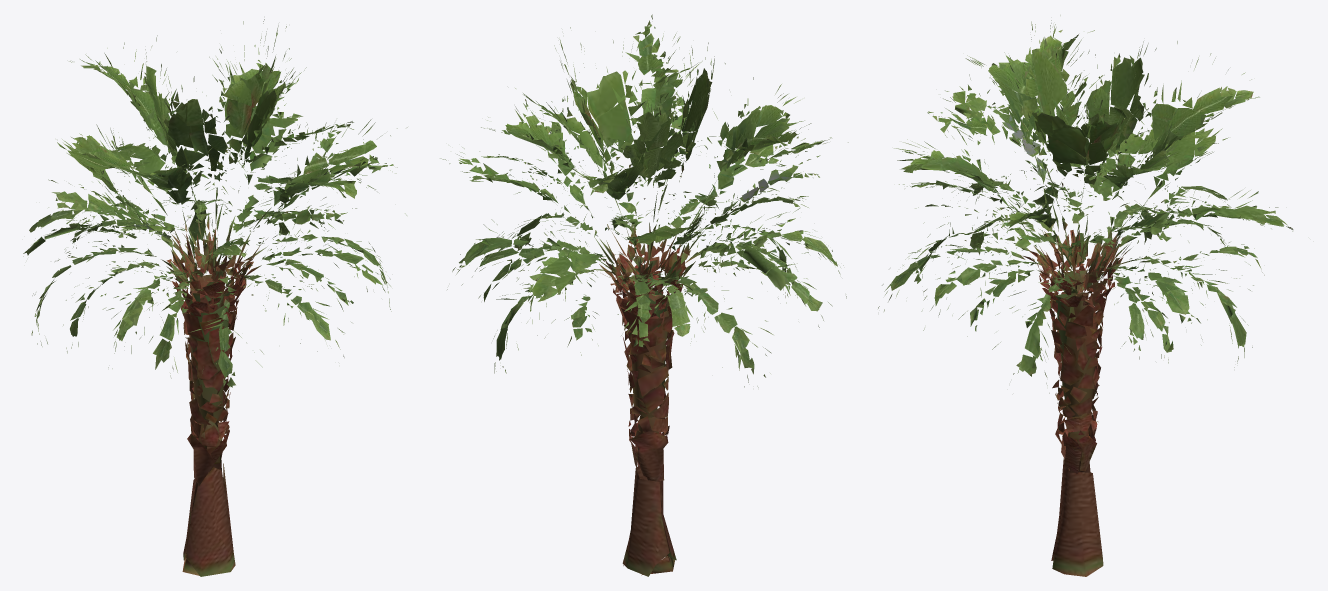
Rendered from palm_c.glb.
3 renders of one model, left to right at view 1: azimuth 30°, elevation 25°; view 2: azimuth 150°, elevation 25°; view 3: azimuth 270°, elevation 25°, orthographic.
Parts seen in each view (by area): view 1: Mesh_0; view 2: Mesh_0; view 3: Mesh_0.
Part boxes in pixels (box(x1,y1,x2,y2)): Mesh_0: box(23, 19, 407, 576); Mesh_0: box(440, 14, 848, 576); Mesh_0: box(878, 15, 1293, 576).
Size of the model in its own units: 1.3 by 1.87 by 1.4.
Materials: 1 (1 with a texture image).
